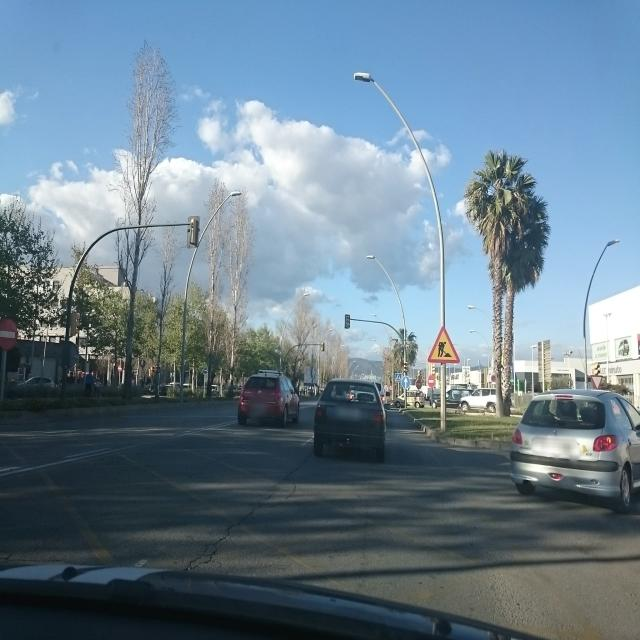car: (508, 388, 640, 512), (312, 378, 387, 461), (238, 369, 300, 428), (458, 387, 498, 413), (26, 374, 55, 388)
